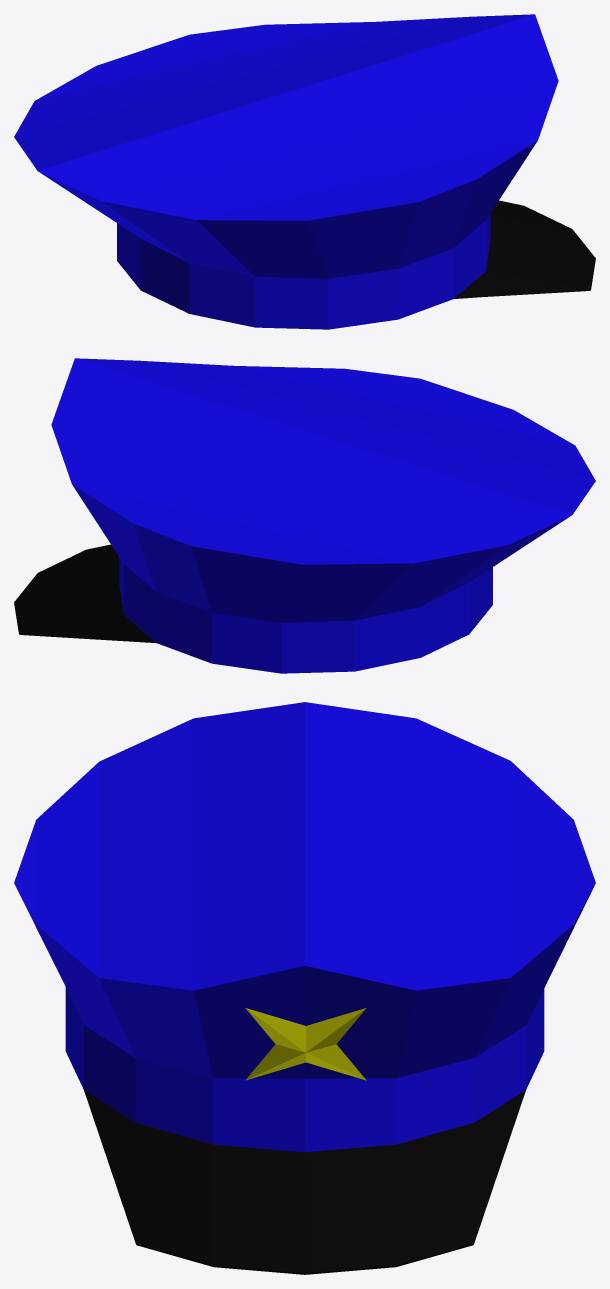
File: police hat.fbx
3 views of the same model, one above another, from view 1: azimuth 30°, elevation 25°; view 2: azimuth 150°, elevation 25°; view 3: azimuth 270°, elevation 25° (orthographic). The views are drawn at different scales.
Parts seen in each view (by area): view 1: Окружность; view 2: Окружность; view 3: Окружность.
Boxes of the visible parts, x1,y1,x2,y2 form: Окружность: [14, 14, 595, 329]; Окружность: [14, 358, 595, 673]; Окружность: [14, 702, 595, 1274].
Bounding box in the file's own units: 52.93 × 21.31 × 39.25.
